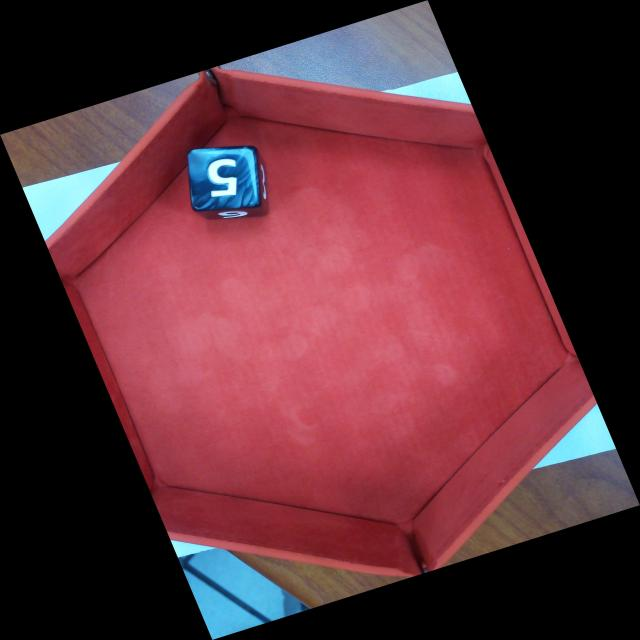dice: (187, 145, 262, 212)
